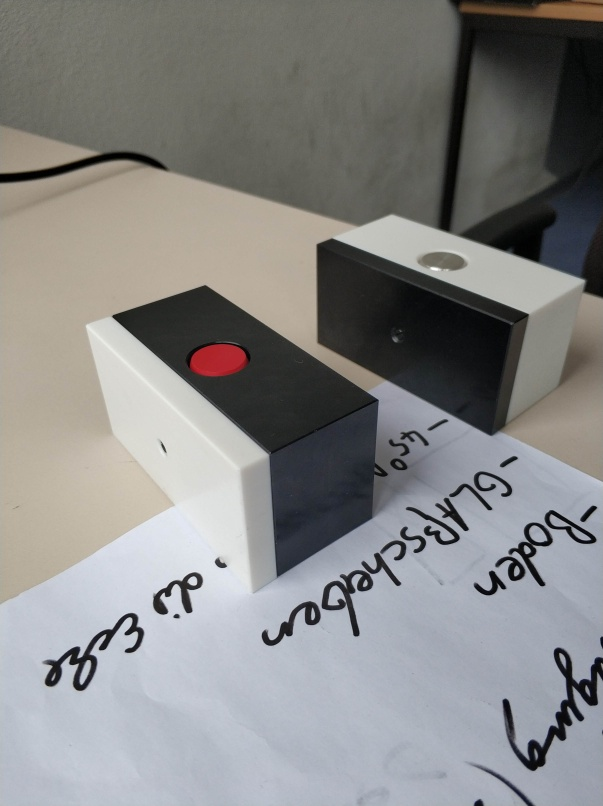black+white+silver: (311, 210, 590, 440)
white+black+red: (81, 282, 382, 598)
